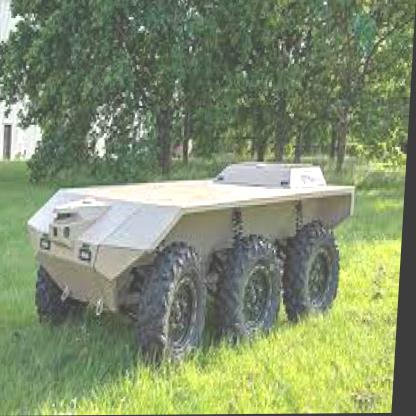UGV: (22, 162, 359, 370)
